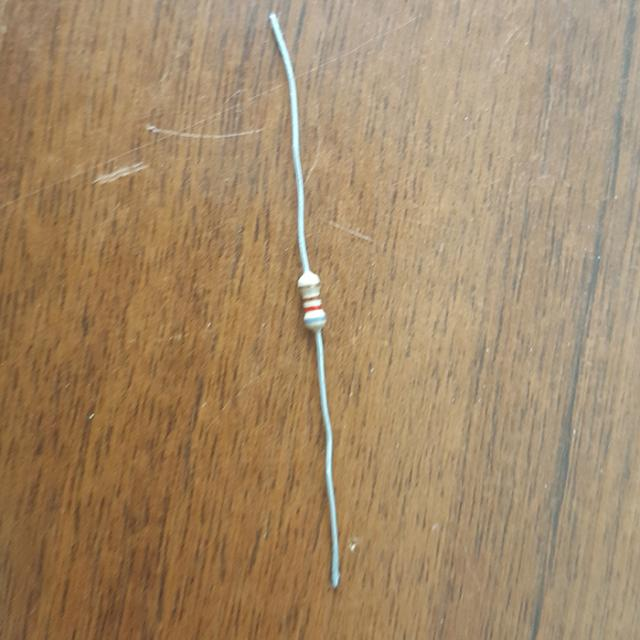brown: (303, 295, 320, 302)
gold: (300, 282, 320, 289)
grey: (305, 316, 326, 323)
red: (304, 305, 322, 312)
resistor: (288, 256, 347, 350)
